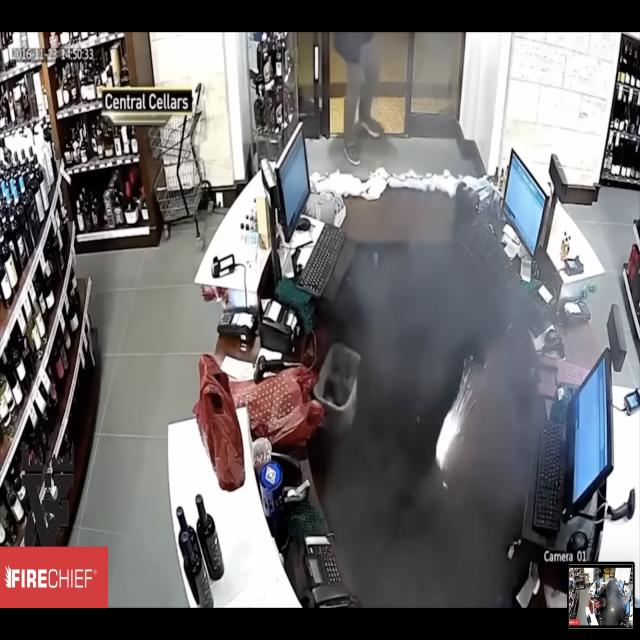Atencao: (299, 85, 581, 622)
Fogo: (418, 368, 491, 491)
